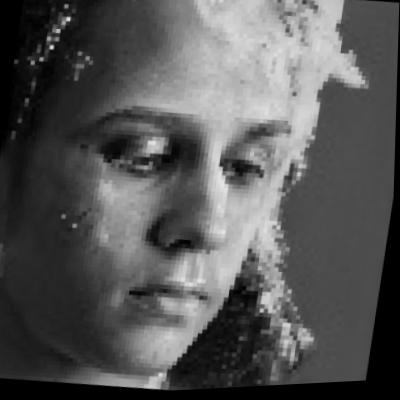sad: (18, 0, 308, 386)
